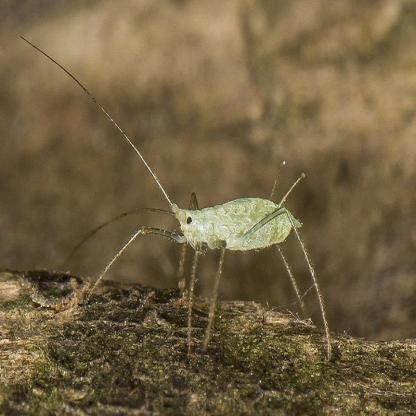aphid: (66, 117, 340, 360)
